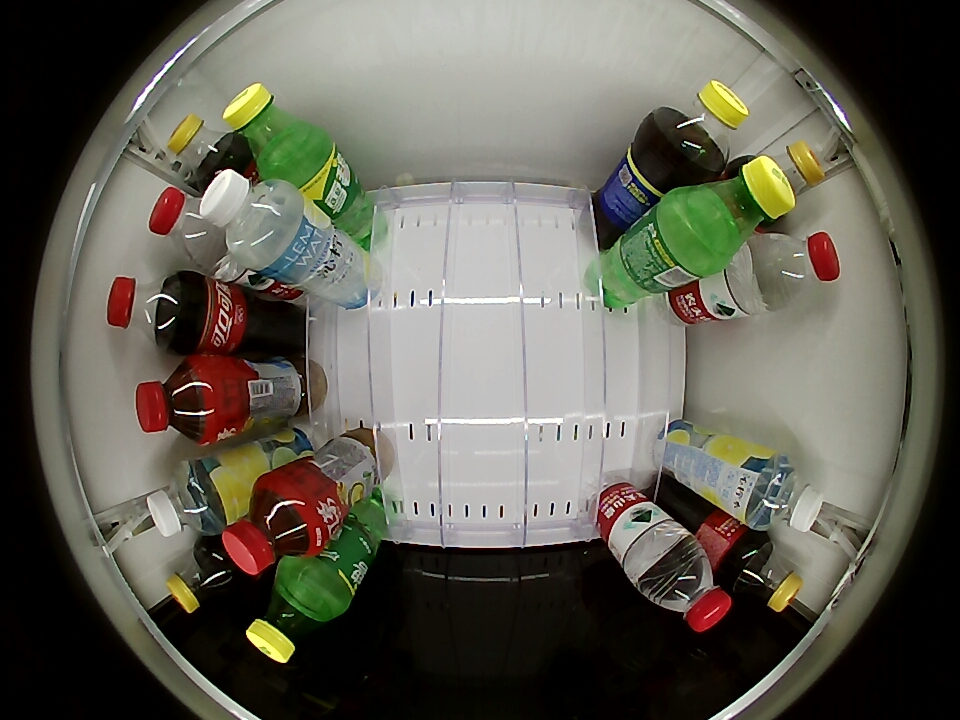baishikele: (652, 80, 750, 176)
binghongcha: (223, 473, 329, 577), (134, 357, 223, 444)
kele-b: (107, 273, 185, 348)
kele-b-2: (728, 538, 803, 613), (167, 540, 239, 614), (167, 114, 238, 184), (772, 141, 824, 195)
nongfushanquan: (640, 540, 733, 632), (753, 229, 841, 309), (149, 187, 220, 265)
qinningshui: (198, 168, 308, 274), (145, 458, 232, 538), (740, 455, 825, 533)
xuebi-b: (686, 155, 795, 253), (246, 566, 340, 663), (223, 82, 317, 174)
